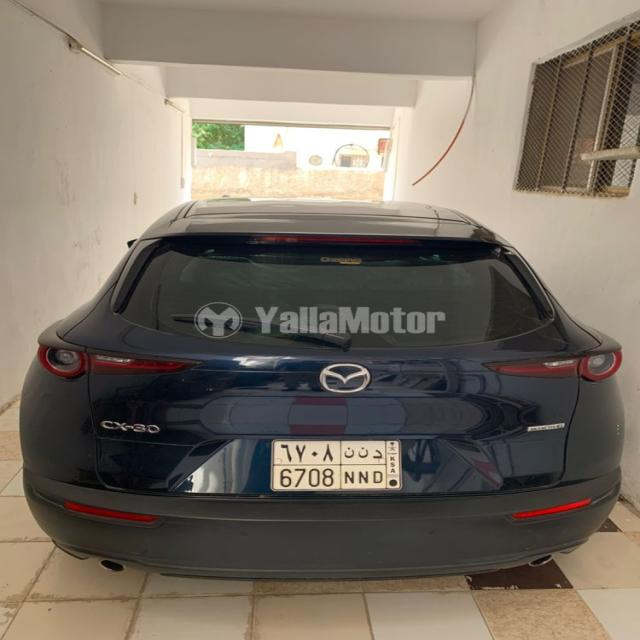license_plate: (270, 464, 388, 491)
